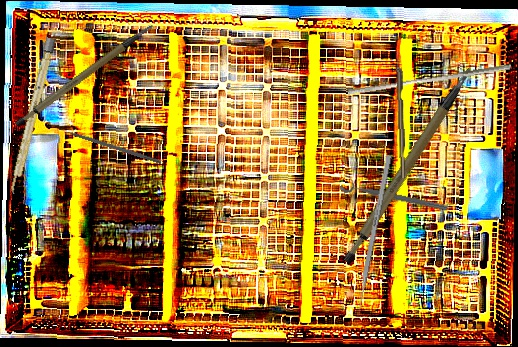Fixation Ring: (339, 173, 450, 215)
Hook Surgical: (54, 124, 163, 165), (395, 50, 407, 179)
Pusher: (347, 57, 512, 101), (354, 154, 392, 322)
Scalpel Handle: (318, 66, 502, 268), (4, 23, 167, 130), (7, 37, 57, 195)
